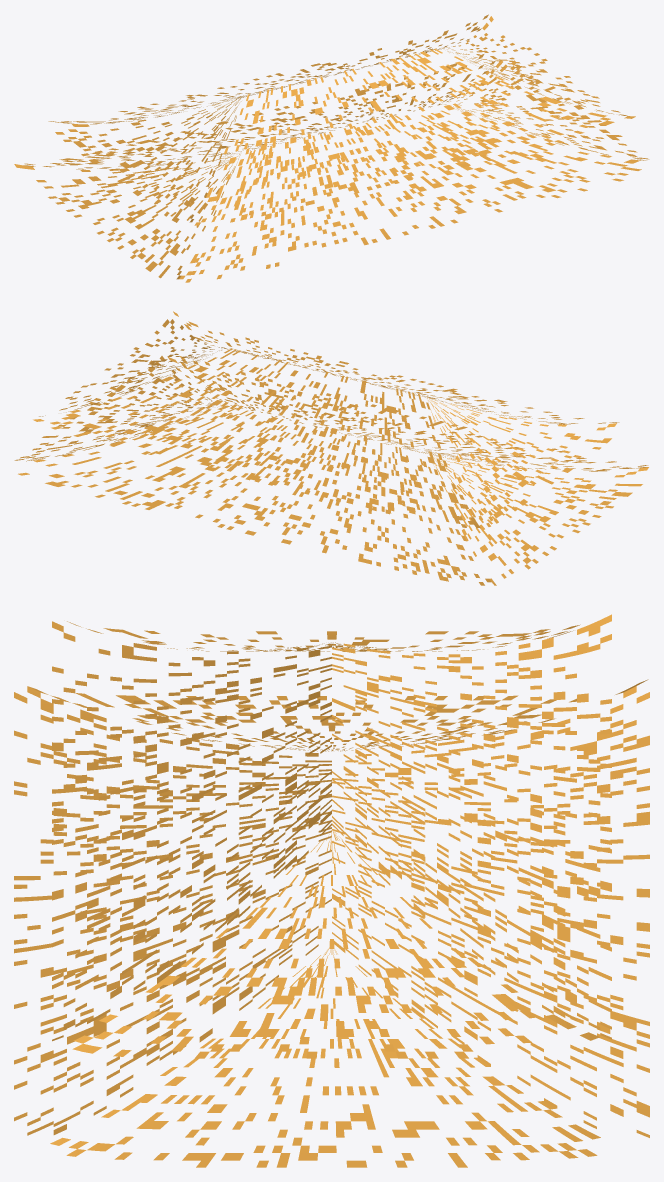
Rendered from SM_12_tile5.fbx.
3 views of the same model, one above another, from view 1: azimuth 30°, elevation 25°; view 2: azimuth 150°, elevation 25°; view 3: azimuth 270°, elevation 25° (orthographic). The views are drawn at different scales.
Parts seen in each view (by area): view 1: tile5; view 2: tile5; view 3: tile5.
Boxes of the visible parts, box(x1,y1,x2,y2) form: tile5: box(14, 14, 649, 282); tile5: box(14, 311, 648, 585); tile5: box(14, 614, 649, 1167).
Bounding box in the file's own units: 5300 × 3020 × 1030.
